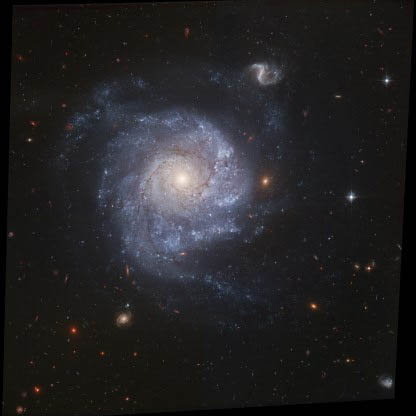NGC 1309: (69, 52, 297, 344)
